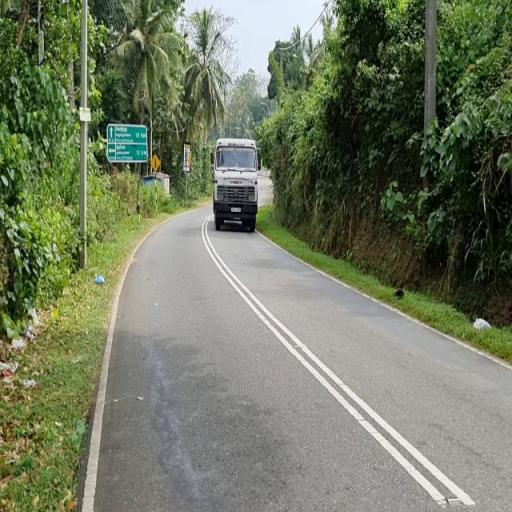double_white_line: (204, 211, 475, 506)
